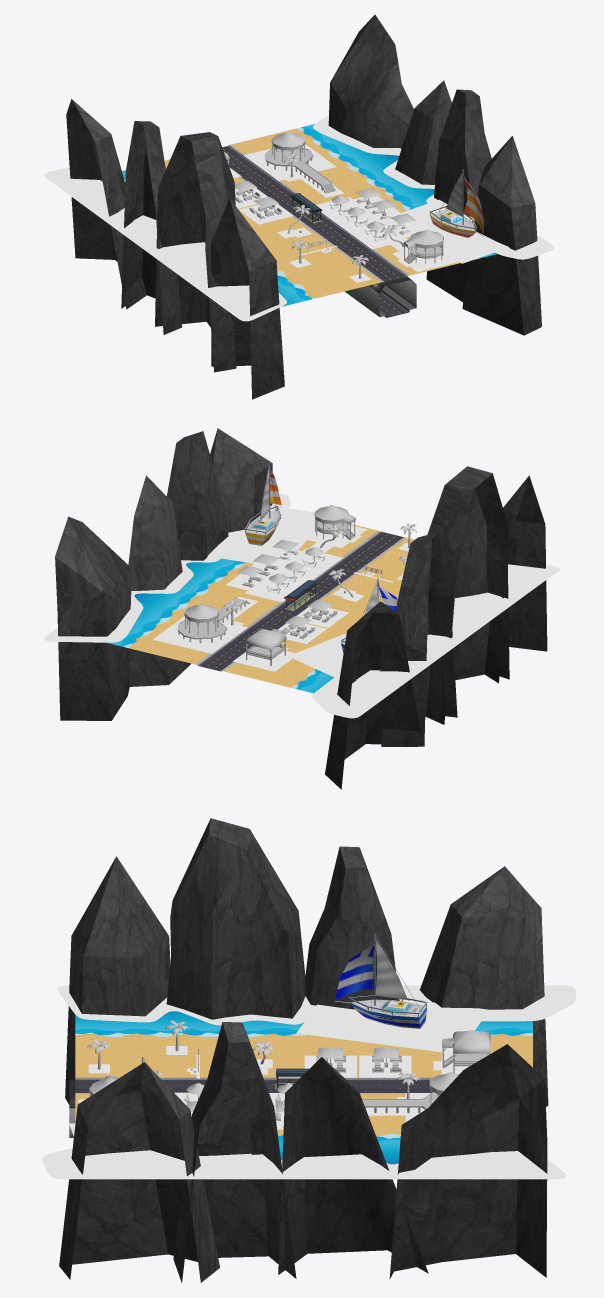
Rendered from Beach_09.fbx.
3 renders of one model, top to bottom at view 1: azimuth 30°, elevation 25°; view 2: azimuth 150°, elevation 25°; view 3: azimuth 270°, elevation 25°, orthographic. The views are drawn at different scales.
Visible parts, largest first — view 1: Beach_09; view 2: Beach_09; view 3: Beach_09.
Boxes of the visible parts, box(x1,y1,x2,y2) form: Beach_09: box(44, 14, 553, 399); Beach_09: box(44, 428, 559, 789); Beach_09: box(42, 818, 575, 1282).
Bounding box in the file's own units: 22617 × 13384 × 25170.
